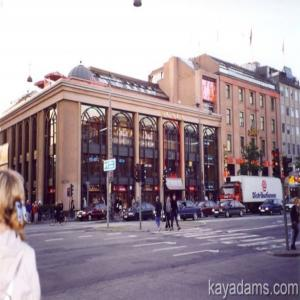Vehicle-registration-plate: (216, 212, 220, 215)
